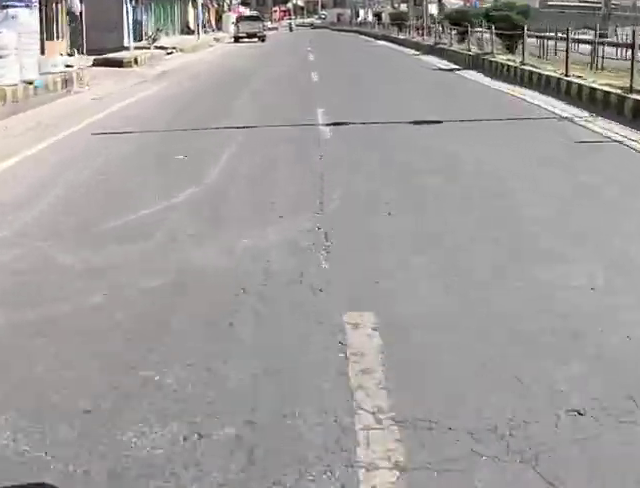left: (169, 103, 502, 427)
